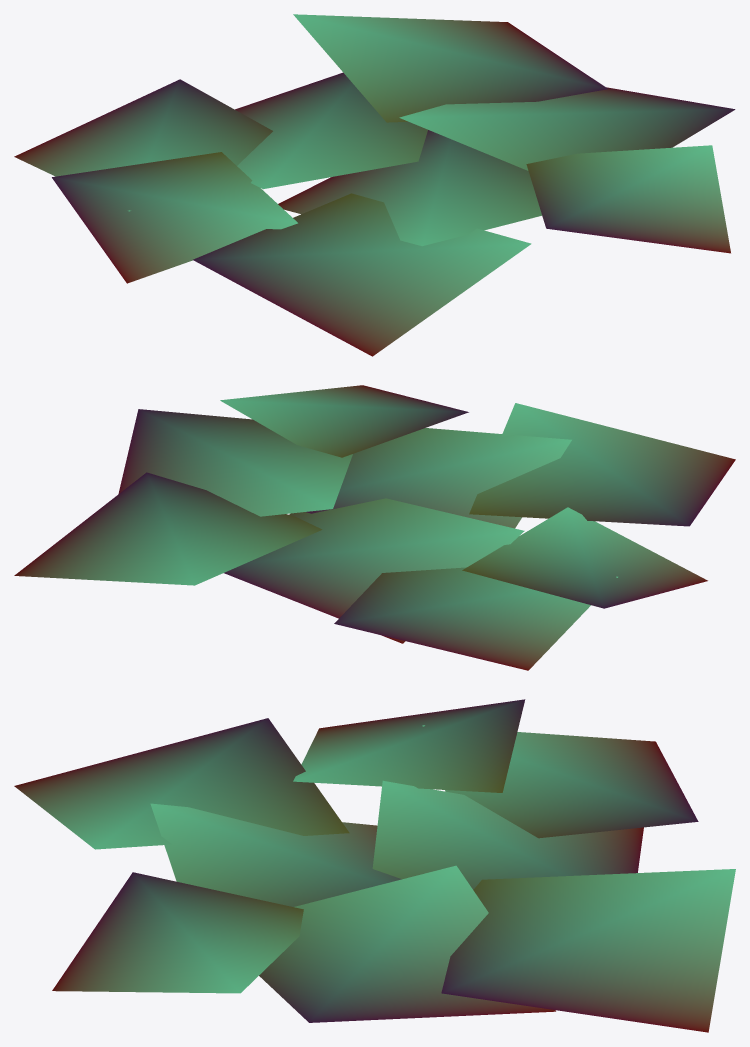
File: grass_field_closetop.dae
3 renders of one model, top to bottom at view 1: azimuth 30°, elevation 25°; view 2: azimuth 150°, elevation 25°; view 3: azimuth 270°, elevation 25°, orthographic. The views are drawn at different scales.
Parts seen in each view (by area): view 1: grass_field_large150; view 2: grass_field_large150; view 3: grass_field_large150.
Boxes of the visible parts, x1,y1,x2,y2 form: grass_field_large150: (14, 14, 735, 356); grass_field_large150: (14, 385, 735, 670); grass_field_large150: (14, 699, 735, 1032).
Bounding box in the file's own units: 2.01 × 1.87 × 0.1534.
